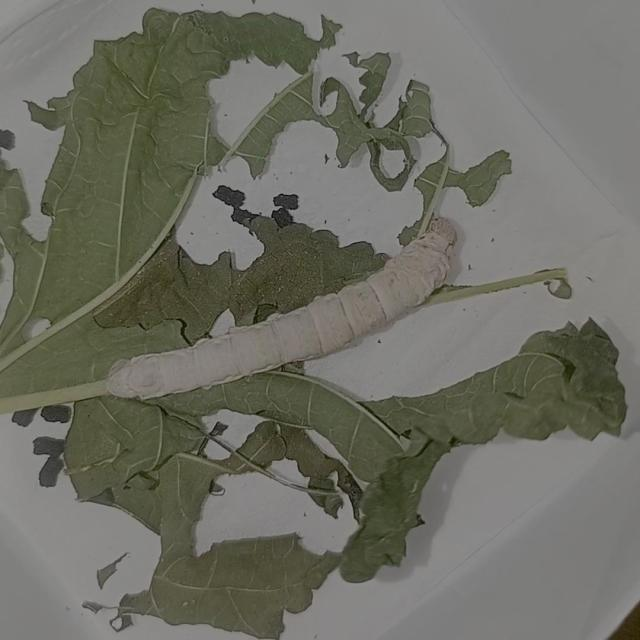Healthy: (72, 197, 484, 416)
